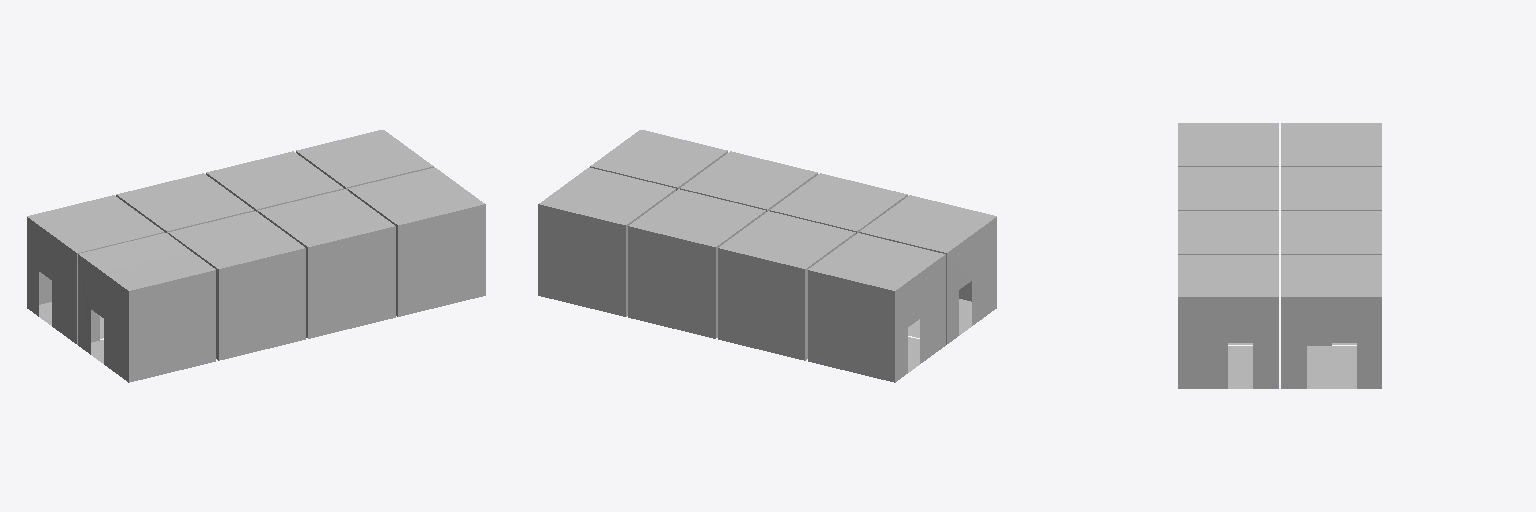
The model's file is museumTri.obj.
3 renders of one model, left to right at view 1: azimuth 30°, elevation 25°; view 2: azimuth 150°, elevation 25°; view 3: azimuth 270°, elevation 25°, orthographic.
Parts seen in each view (by area): view 1: museumTri; view 2: museumTri; view 3: museumTri.
Boxes of the visible parts, box(x1,y1,x2,y2) form: museumTri: box(27, 130, 485, 382); museumTri: box(538, 130, 996, 382); museumTri: box(1178, 123, 1381, 388).
Bounding box in the file's own units: 8.15 × 2 × 4.05.